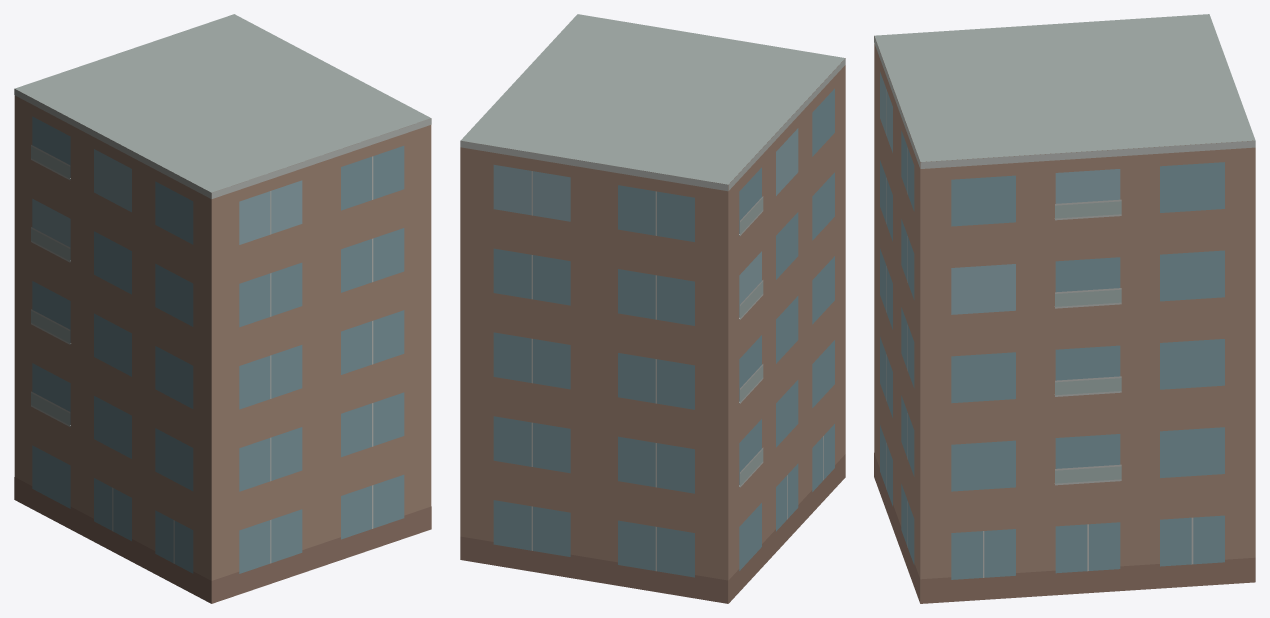
Rendered from survey-upis-33003399.glb.
3 views of the same model, side by side, from view 1: azimuth 30°, elevation 25°; view 2: azimuth 150°, elevation 25°; view 3: azimuth 270°, elevation 25° (orthographic). The views are drawn at different scales.
Parts seen in each view (by area): view 1: survey-upis-33003399.tmp; view 2: survey-upis-33003399.tmp; view 3: survey-upis-33003399.tmp.
Part boxes in pixels (bbox=[...]): survey-upis-33003399.tmp: bbox=[14, 14, 431, 603]; survey-upis-33003399.tmp: bbox=[460, 14, 845, 603]; survey-upis-33003399.tmp: bbox=[874, 14, 1255, 603].
Bounding box in the file's own units: 11.08 × 15.4 × 12.06.
